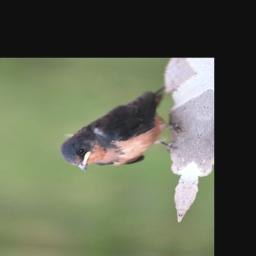Swallow: (54, 79, 194, 178)
